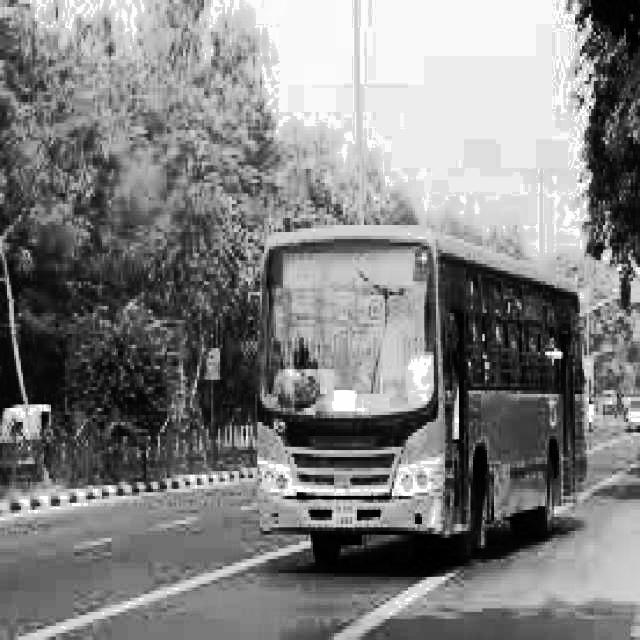Bus: (240, 199, 614, 587)
